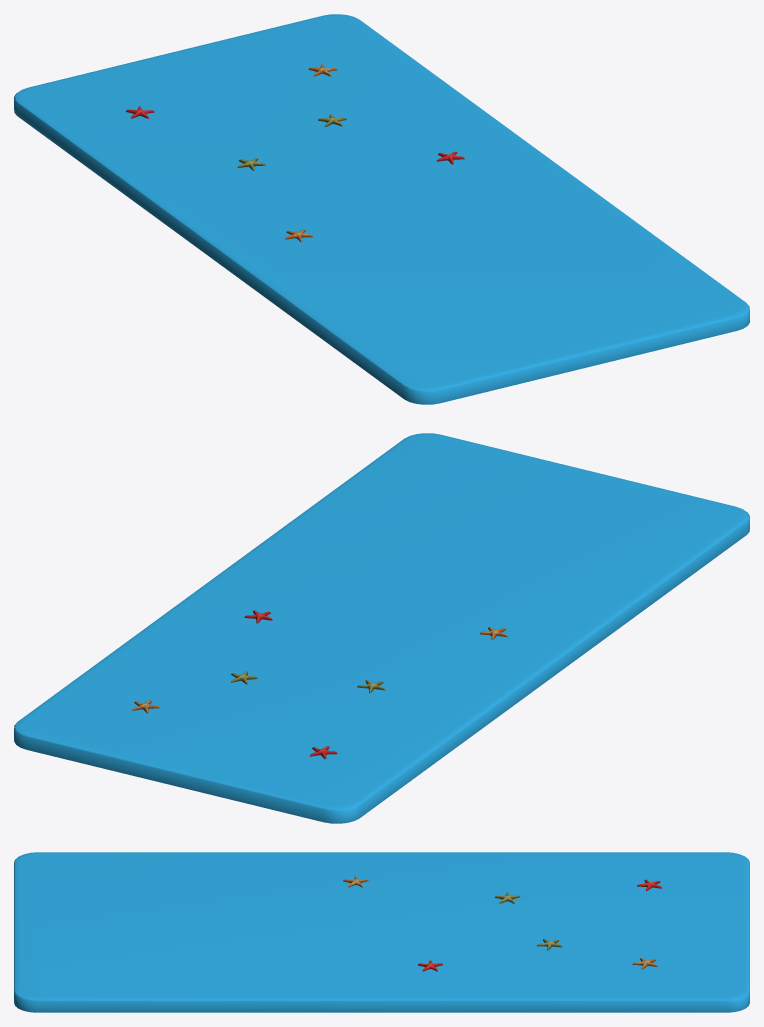
File: spin_scene_1.glb
The picture shows the model from 3 angles, top to bottom: view 1: azimuth 30°, elevation 25°; view 2: azimuth 150°, elevation 25°; view 3: azimuth 270°, elevation 25°; orthographic projection. The views are drawn at different scales.
Parts seen in each view (by area): view 1: spin_water; view 2: spin_water; view 3: spin_water.
Boxes of the visible parts, left/top/right/bottom form: spin_water: left=14, top=14, right=749, bottom=404; spin_water: left=14, top=433, right=749, bottom=823; spin_water: left=14, top=852, right=749, bottom=1012.
Size of the model in its own units: 4.98 by 0.2615 by 10.4.
Materials: 2 (1 with a texture image).
